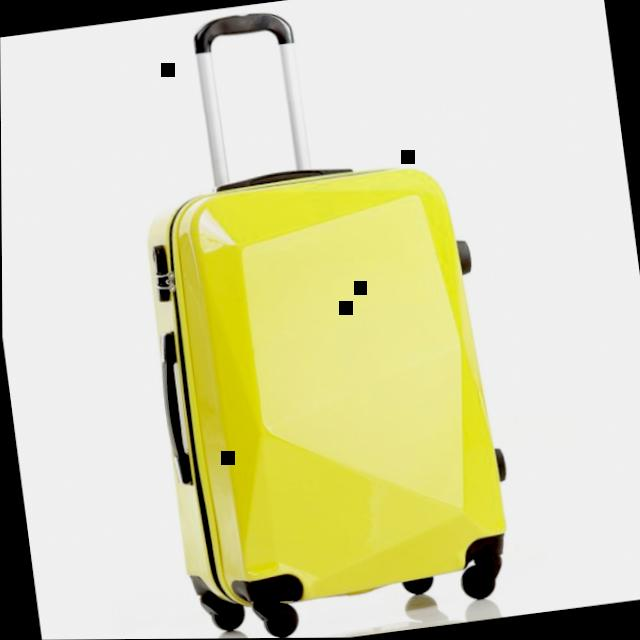luggage: (125, 140, 528, 629)
